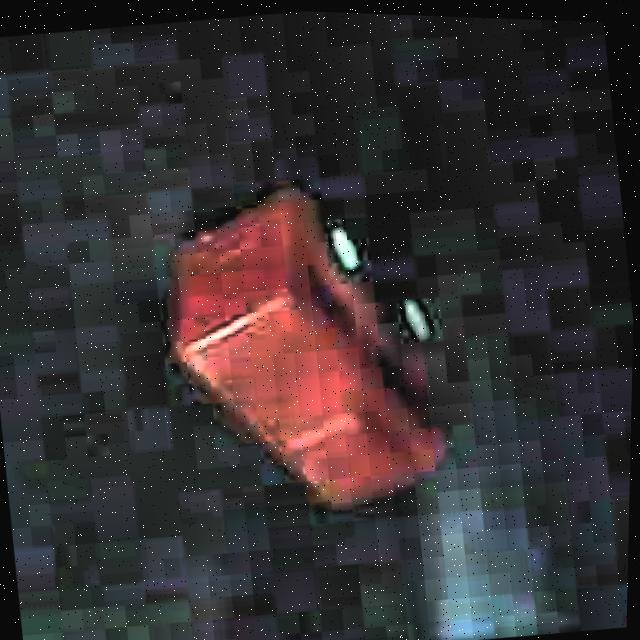bus: (135, 156, 472, 542)
